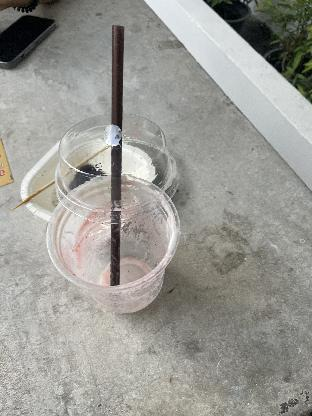Plastic Cup: (45, 175, 189, 317), (52, 110, 174, 226)
